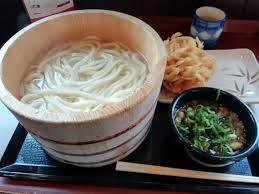kamaage: (1, 14, 161, 115), (162, 33, 215, 88)
